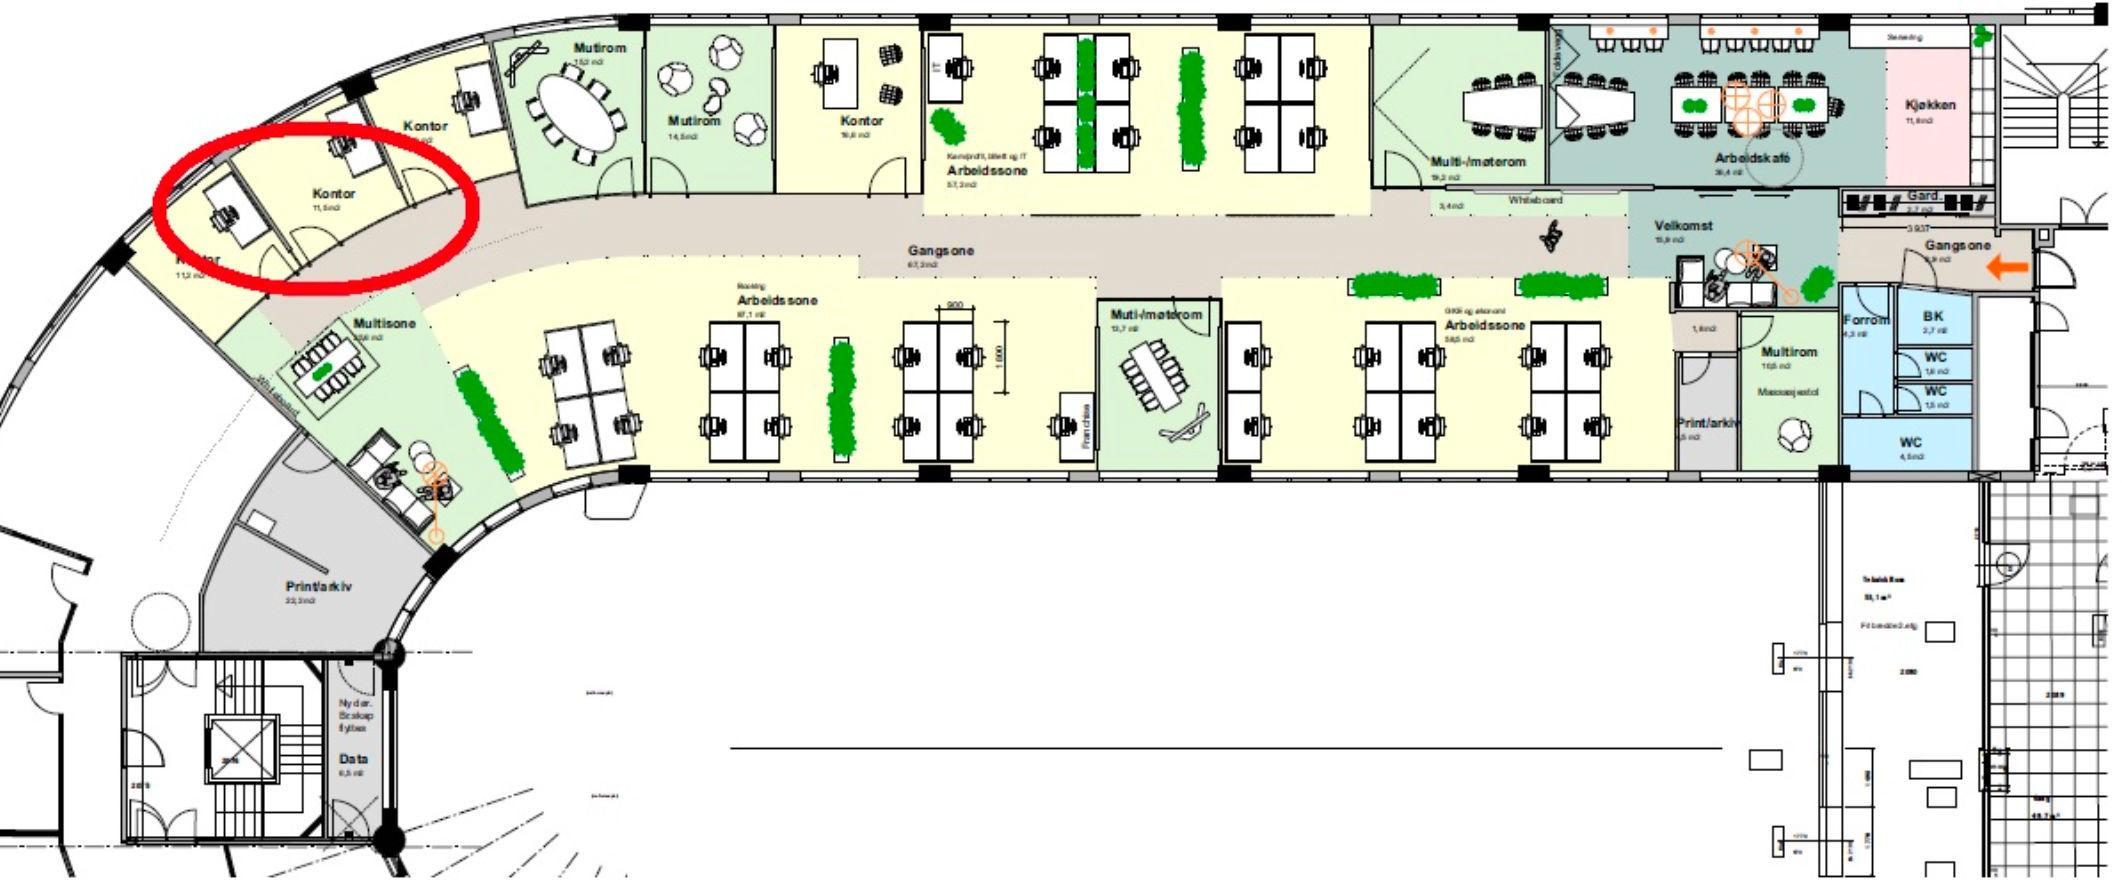room: (1547, 20, 1996, 187), (1372, 22, 1547, 190), (489, 20, 644, 199), (1841, 282, 1976, 477), (774, 23, 924, 195), (1098, 299, 1223, 477), (646, 22, 774, 194), (1739, 310, 1841, 471), (1677, 355, 1739, 472)
